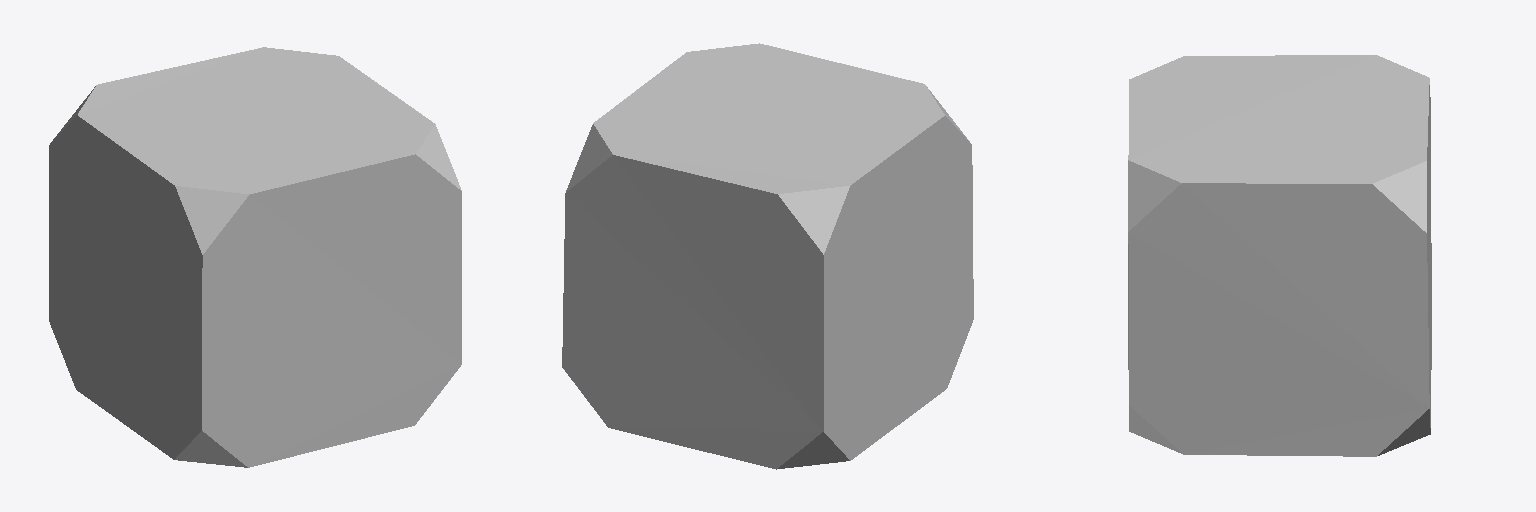
The model's file is cube_cutted_smoothed_20.obj.
The picture shows the model from 3 angles: view 1: azimuth 30°, elevation 25°; view 2: azimuth 150°, elevation 25°; view 3: azimuth 270°, elevation 25°; orthographic projection.
Bounding box in the file's own units: 1.02 × 1.02 × 1.02.